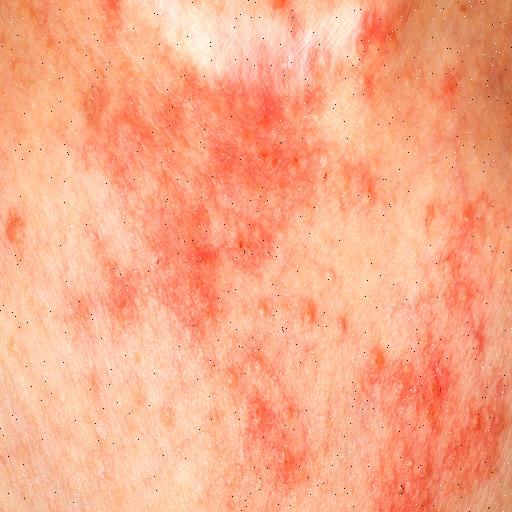Skin_Lesion: (206, 65, 311, 195), (150, 201, 224, 336), (85, 90, 168, 178), (368, 350, 454, 426), (248, 377, 298, 495), (370, 446, 434, 506), (356, 7, 400, 91), (458, 413, 510, 475), (102, 266, 140, 323), (350, 159, 382, 219), (2, 206, 30, 250), (466, 316, 490, 360)
